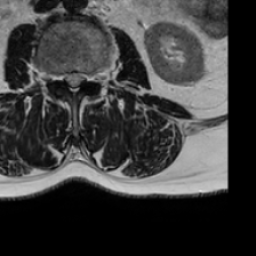CCS_normal: (69, 62, 77, 103)
LFS_normal: (86, 62, 95, 91)
LLS_normal: (77, 62, 86, 92)
RFS_stenosis: (52, 62, 61, 91)
RLS_stenosis: (61, 62, 69, 89)
